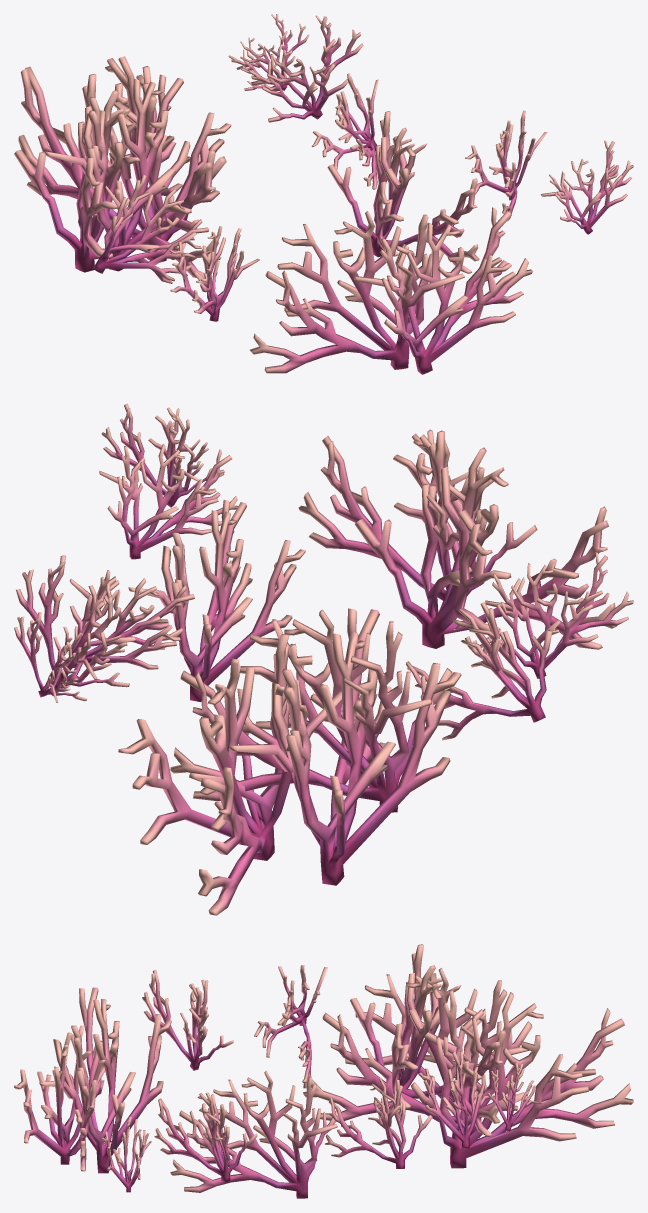
File: stageObject_11.fbx
The picture shows the model from 3 angles, top to bottom: view 1: azimuth 30°, elevation 25°; view 2: azimuth 150°, elevation 25°; view 3: azimuth 270°, elevation 25°; orthographic projection. The views are drawn at different scales.
Parts seen in each view (by area): view 1: sango6-3; view 2: sango6-3; view 3: sango6-3.
Part boxes in pixels (box(x1,y1,x2,y2)): sango6-3: box(14, 14, 633, 374); sango6-3: box(14, 403, 633, 915); sango6-3: box(14, 944, 633, 1198).
Size of the model in its own units: 445 by 193 by 572.
1 material, 1 textured.
